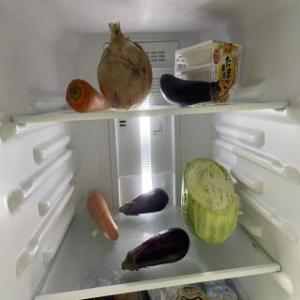cabbage: (182, 156, 241, 244)
carrot: (64, 80, 112, 112), (88, 193, 120, 241)
eggplant: (122, 229, 190, 271), (160, 73, 222, 105), (120, 187, 169, 215)
onion: (98, 23, 156, 110)
